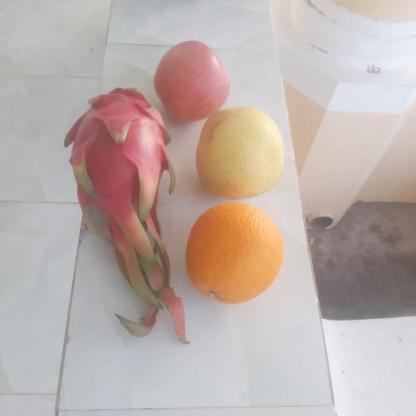apple: (149, 38, 232, 122)
orange: (182, 204, 284, 302)
pear: (190, 108, 289, 198)
pitaya: (60, 87, 173, 228)
